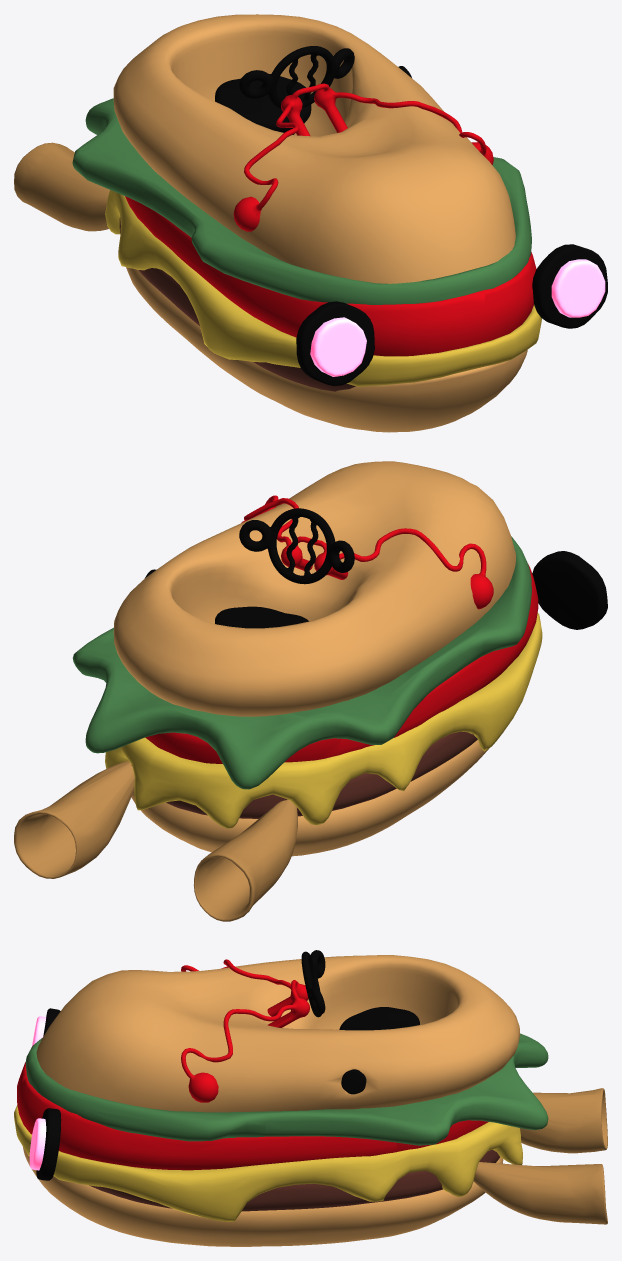
Rendered from magiccarpet.glb.
3 renders of one model, top to bottom at view 1: azimuth 30°, elevation 25°; view 2: azimuth 150°, elevation 25°; view 3: azimuth 270°, elevation 25°, orthographic. The views are drawn at different scales.
Visible parts, largest first — view 1: Retopo_geom; view 2: Retopo_geom; view 3: Retopo_geom.
Boxes of the visible parts, box(x1,y1,x2,y2) form: Retopo_geom: box(14, 14, 607, 432); Retopo_geom: box(14, 461, 607, 921); Retopo_geom: box(14, 950, 607, 1246).
Size of the model in its own units: 1.19 by 1.08 by 2.2.
